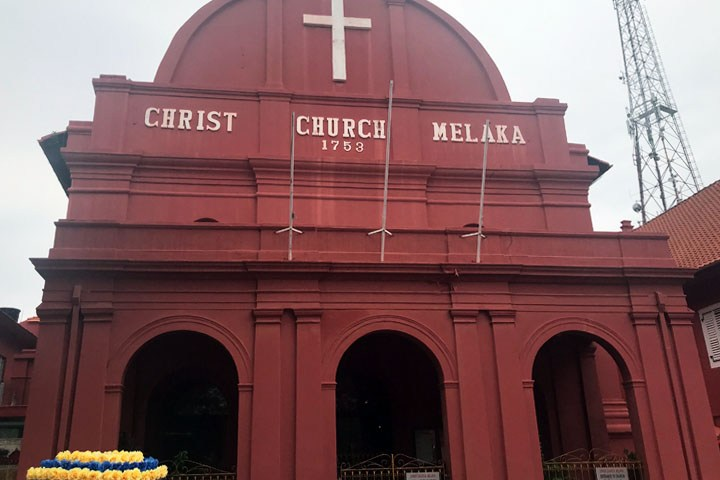Church: (62, 1, 616, 463)
